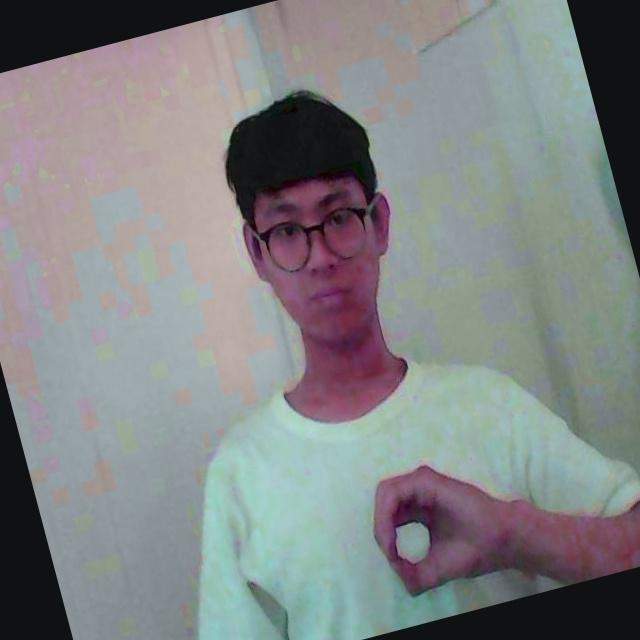O: (367, 462, 484, 600)
